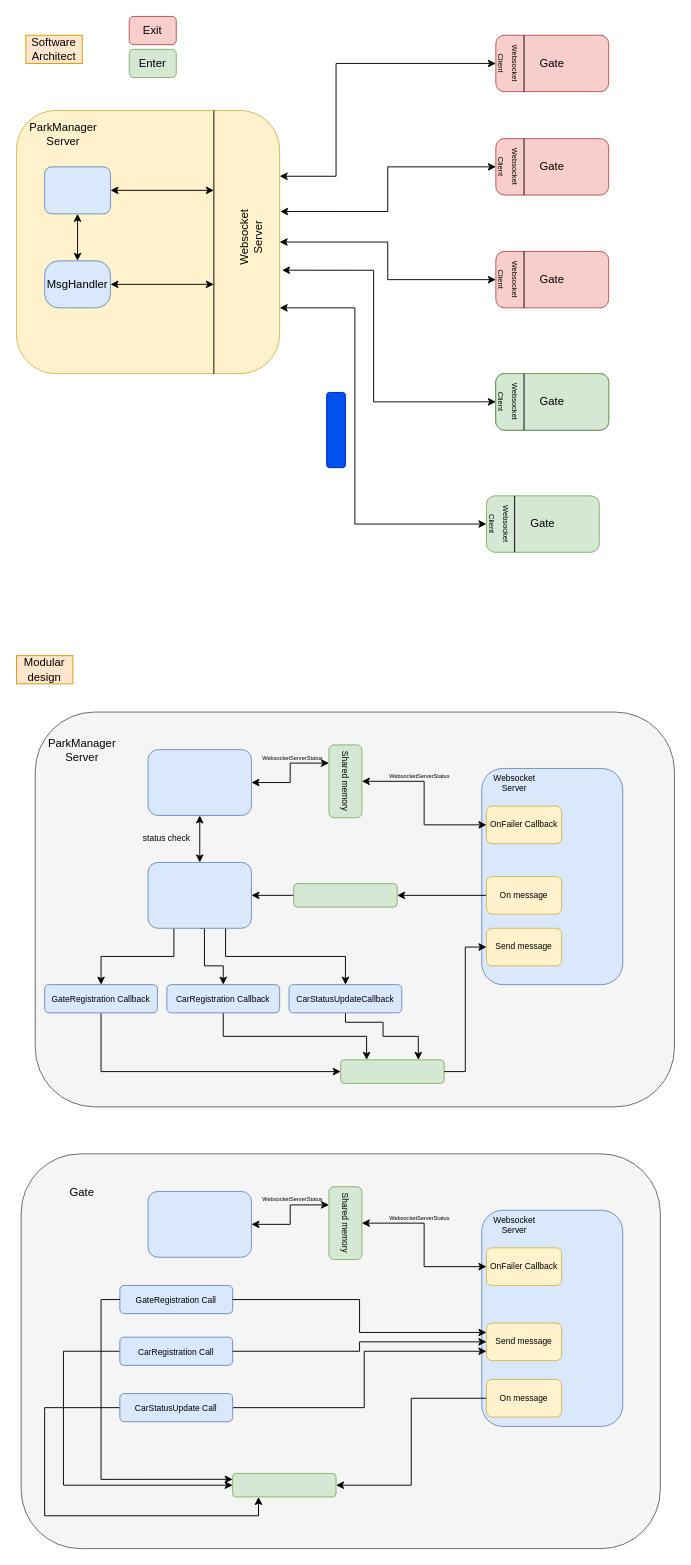
Some shapes in this 691 by 1565 pixel diagram are drawn without their labels. The centre of each missing label's shape, as x and y in pixels:
"CALL queue" goes at pixel 345 895.
"ConnectionHolder" goes at pixel 199 1224.
"GateHanlder" goes at pixel 199 895.
"PM Protocol PDUs" goes at pixel 335 430.
"Response pool" goes at pixel 284 1485.
"Response queue" goes at pixel 392 1071.
"RunServer" goes at pixel 199 782.
"Server Handler" goes at pixel 77 190.
